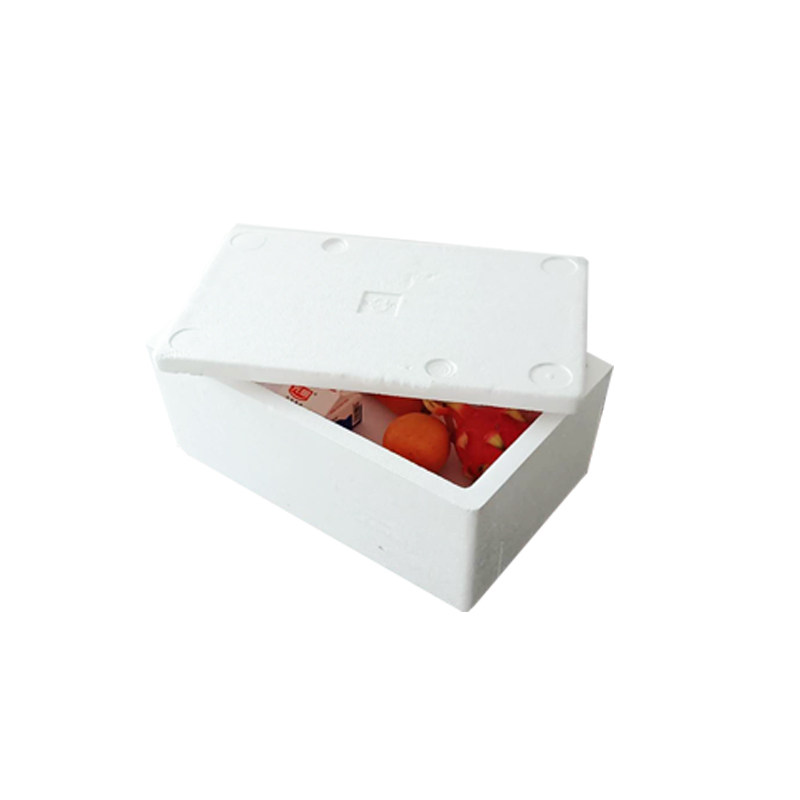泡沫箱: (158, 228, 613, 610)
